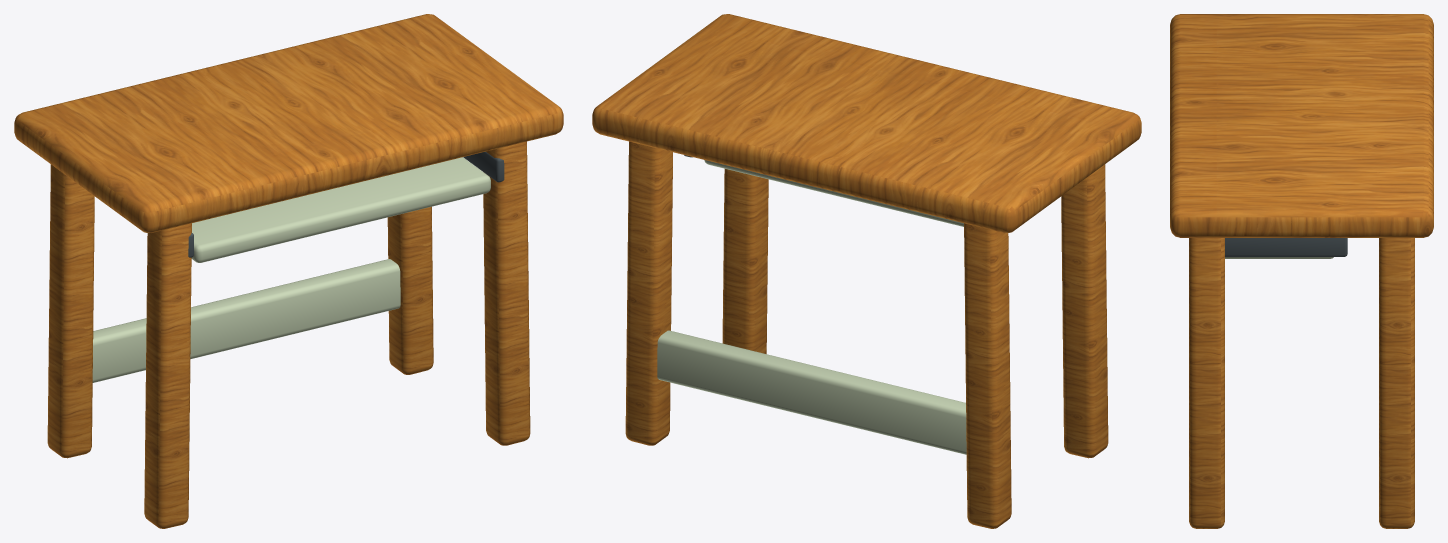
File: compact-computer-desk.glb
3 renders of one model, left to right at view 1: azimuth 30°, elevation 25°; view 2: azimuth 150°, elevation 25°; view 3: azimuth 270°, elevation 25°, orthographic.
Parts seen in each view (by area): view 1: compact-computer-desk; view 2: compact-computer-desk; view 3: compact-computer-desk.
Part boxes in pixels (x1,y1,x2,y2): compact-computer-desk: (14, 14, 563, 528); compact-computer-desk: (592, 14, 1141, 528); compact-computer-desk: (1170, 14, 1433, 528).
Size of the model in its own units: 1 by 0.76 by 0.55.
Materials: 3 (1 with a texture image).
